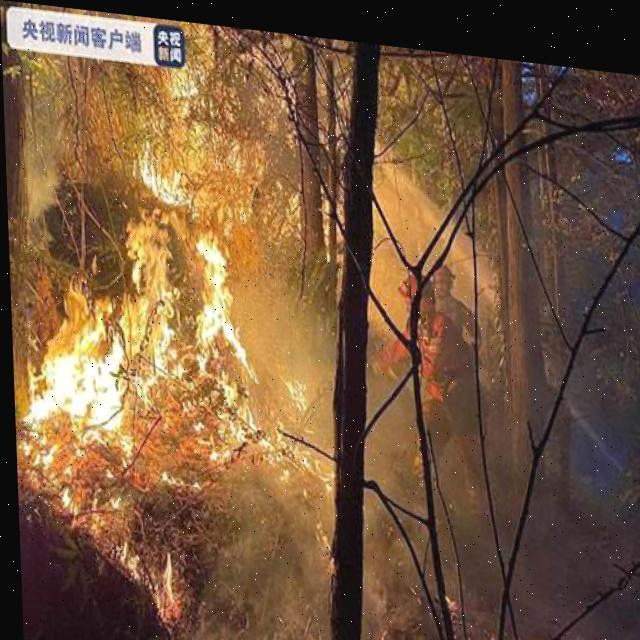Fire: (6, 101, 329, 638)
